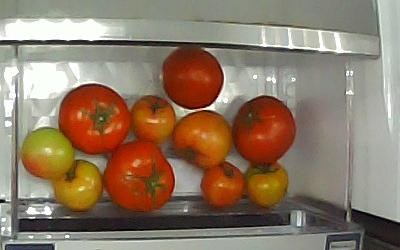tomato: (59, 83, 132, 155), (104, 139, 175, 213), (234, 94, 297, 165), (162, 46, 225, 110), (172, 110, 234, 170), (20, 127, 75, 180), (54, 159, 103, 212), (131, 94, 178, 146), (201, 160, 246, 210), (245, 162, 289, 209)
